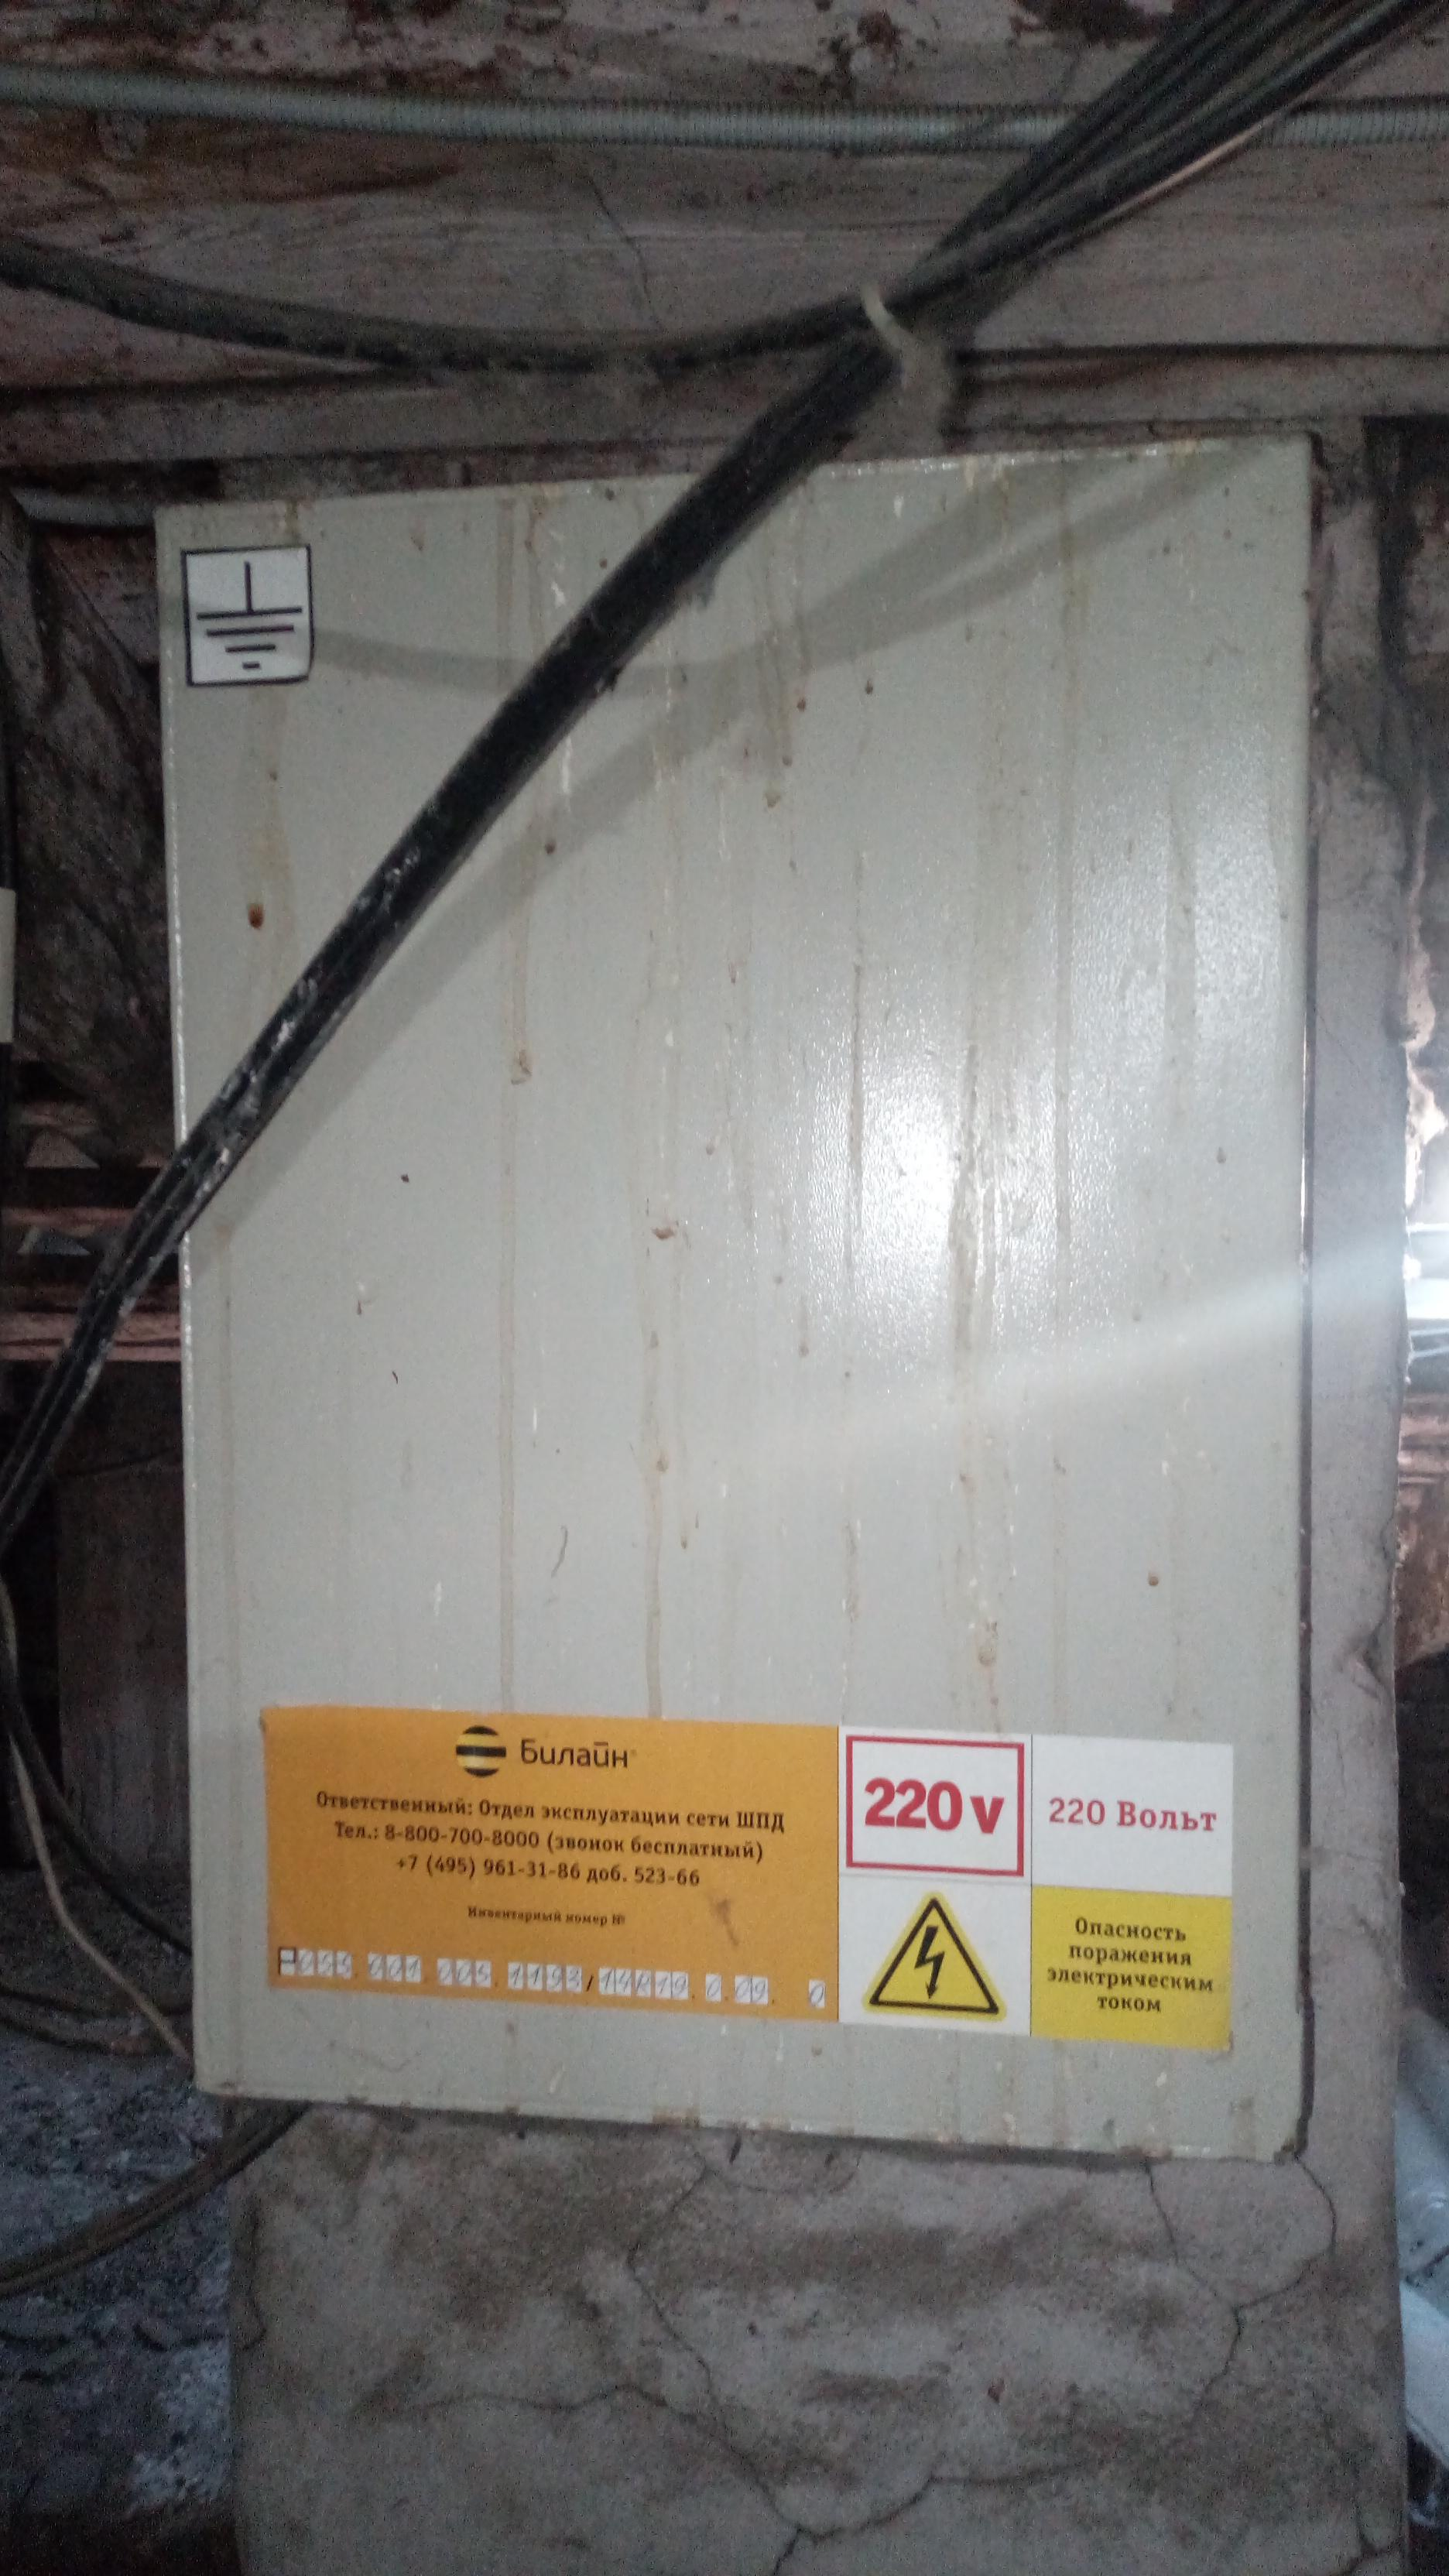sv-5: (134, 402, 1345, 2185)
